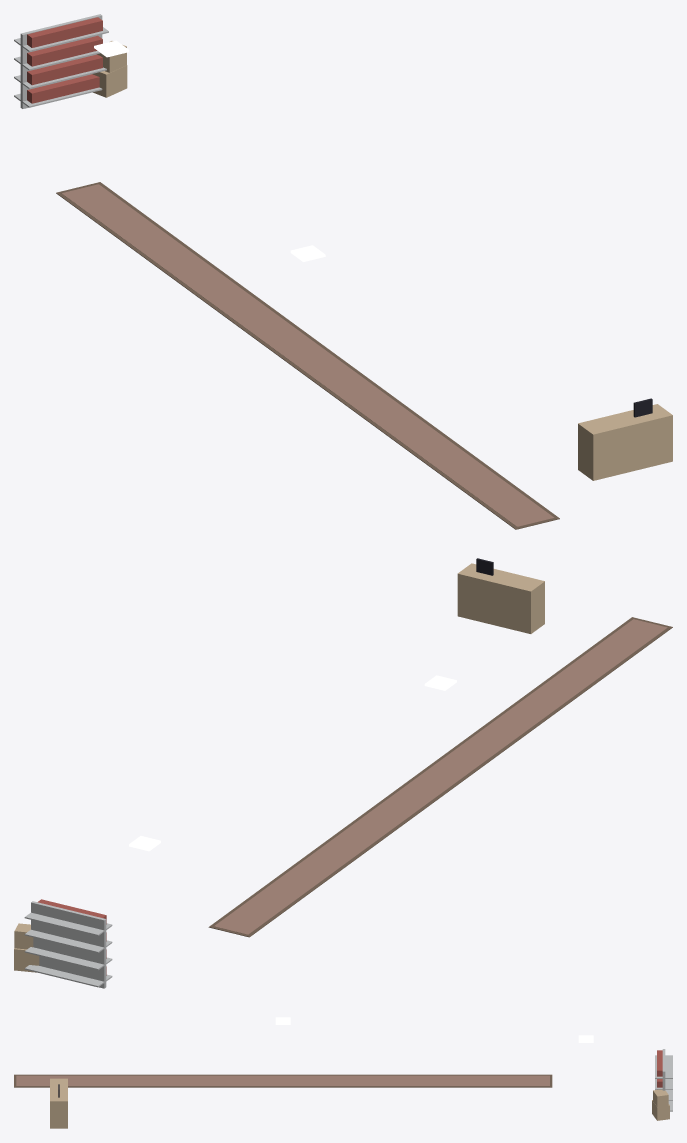
Rendered from fine-s0.glb.
3 renders of one model, top to bottom at view 1: azimuth 30°, elevation 25°; view 2: azimuth 150°, elevation 25°; view 3: azimuth 270°, elevation 25°, orthographic. The views are drawn at different scales.
Visible parts, largest first — view 1: soft-s0, shelving.000, shop-counter.000, cardboard-box.000; view 2: soft-s0, shelving.000, shop-counter.000, cardboard-box.000; view 3: soft-s0, shop-counter.000, shelving.000, cardboard-box.000.
Part boxes in pixels (bbox=[...]): soft-s0: bbox=[56, 182, 559, 529]; shelving.000: bbox=[14, 14, 108, 108]; shop-counter.000: bbox=[578, 398, 672, 480]; cardboard-box.000: bbox=[92, 41, 127, 97]; soft-s0: bbox=[208, 617, 672, 937]; shelving.000: bbox=[24, 899, 112, 988]; shop-counter.000: bbox=[457, 558, 544, 633]; cardboard-box.000: bbox=[14, 923, 39, 972]; soft-s0: bbox=[14, 1074, 552, 1087]; shop-counter.000: bbox=[50, 1078, 67, 1128]; shelving.000: bbox=[655, 1049, 672, 1111]; cardboard-box.000: bbox=[652, 1089, 669, 1120].
Size of the model in its own units: 4.24 by 2.24 by 22.
